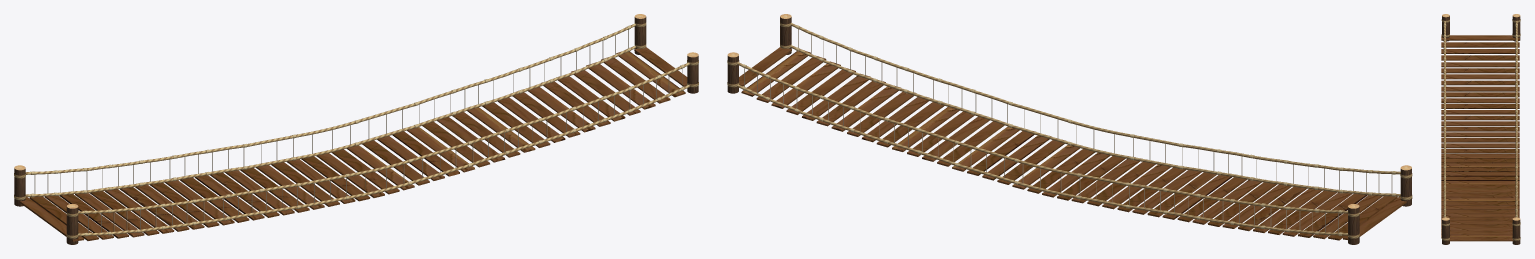
File: PonteWood.fbx
3 renders of one model, left to right at view 1: azimuth 30°, elevation 25°; view 2: azimuth 150°, elevation 25°; view 3: azimuth 270°, elevation 25°, orthographic. The views are drawn at different scales.
Visible parts, largest first — view 1: Madeira, Corda 1, Toras, Corda Suporte, Corda Fios 2, Corda Fios 1; view 2: Madeira, Corda 1, Toras, Corda Suporte, Corda Fios 1, Corda Fios 2; view 3: Madeira, Corda 1, Toras, Corda Suporte.
Boxes of the visible parts, x1,y1,x2,y2 form: Madeira: [19, 47, 687, 241]; Corda 1: [25, 23, 689, 236]; Toras: [14, 14, 698, 244]; Corda Suporte: [30, 25, 684, 236]; Corda Fios 2: [34, 29, 628, 193]; Corda Fios 1: [88, 69, 682, 233]; Madeira: [739, 47, 1412, 240]; Corda 1: [737, 23, 1400, 235]; Toras: [727, 14, 1412, 244]; Corda Suporte: [742, 25, 1396, 235]; Corda Fios 1: [798, 29, 1392, 193]; Corda Fios 2: [744, 68, 1338, 232]; Madeira: [1441, 35, 1519, 241]; Corda 1: [1444, 21, 1517, 217]; Toras: [1441, 14, 1520, 244]; Corda Suporte: [1443, 24, 1517, 216].
Bounding box in the file's own units: 2751 × 260 × 445.
